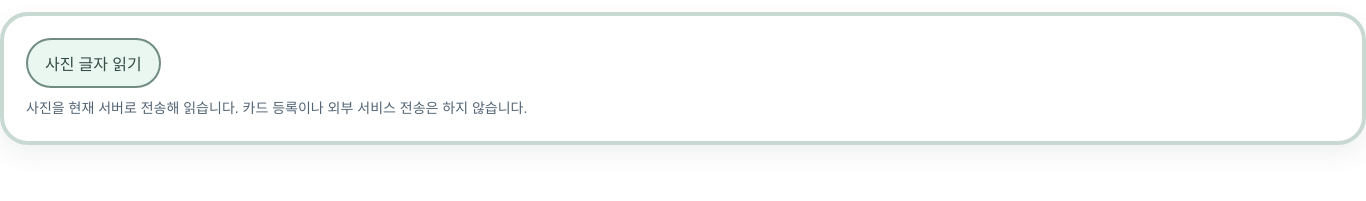
Test: rejects an invalid upload before transport
This screenshot has width=1366, height=201.
Click the button "사진 글자 읽기": (93, 63) [26, 38, 161, 88]
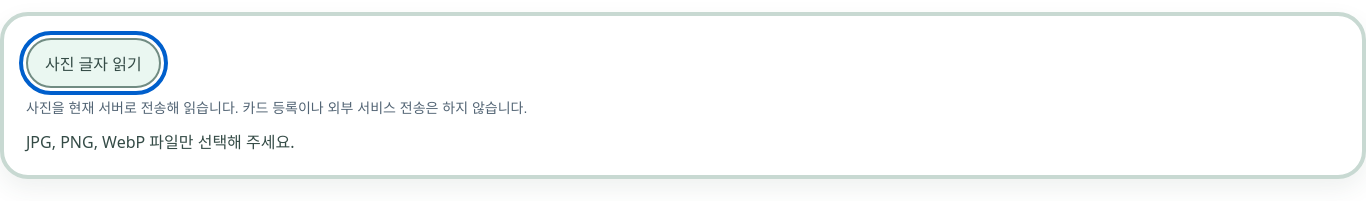
Expected: the message "JPG, PNG, WebP 파일만 선택해 주세요." is not empty, [26, 131, 294, 153]
